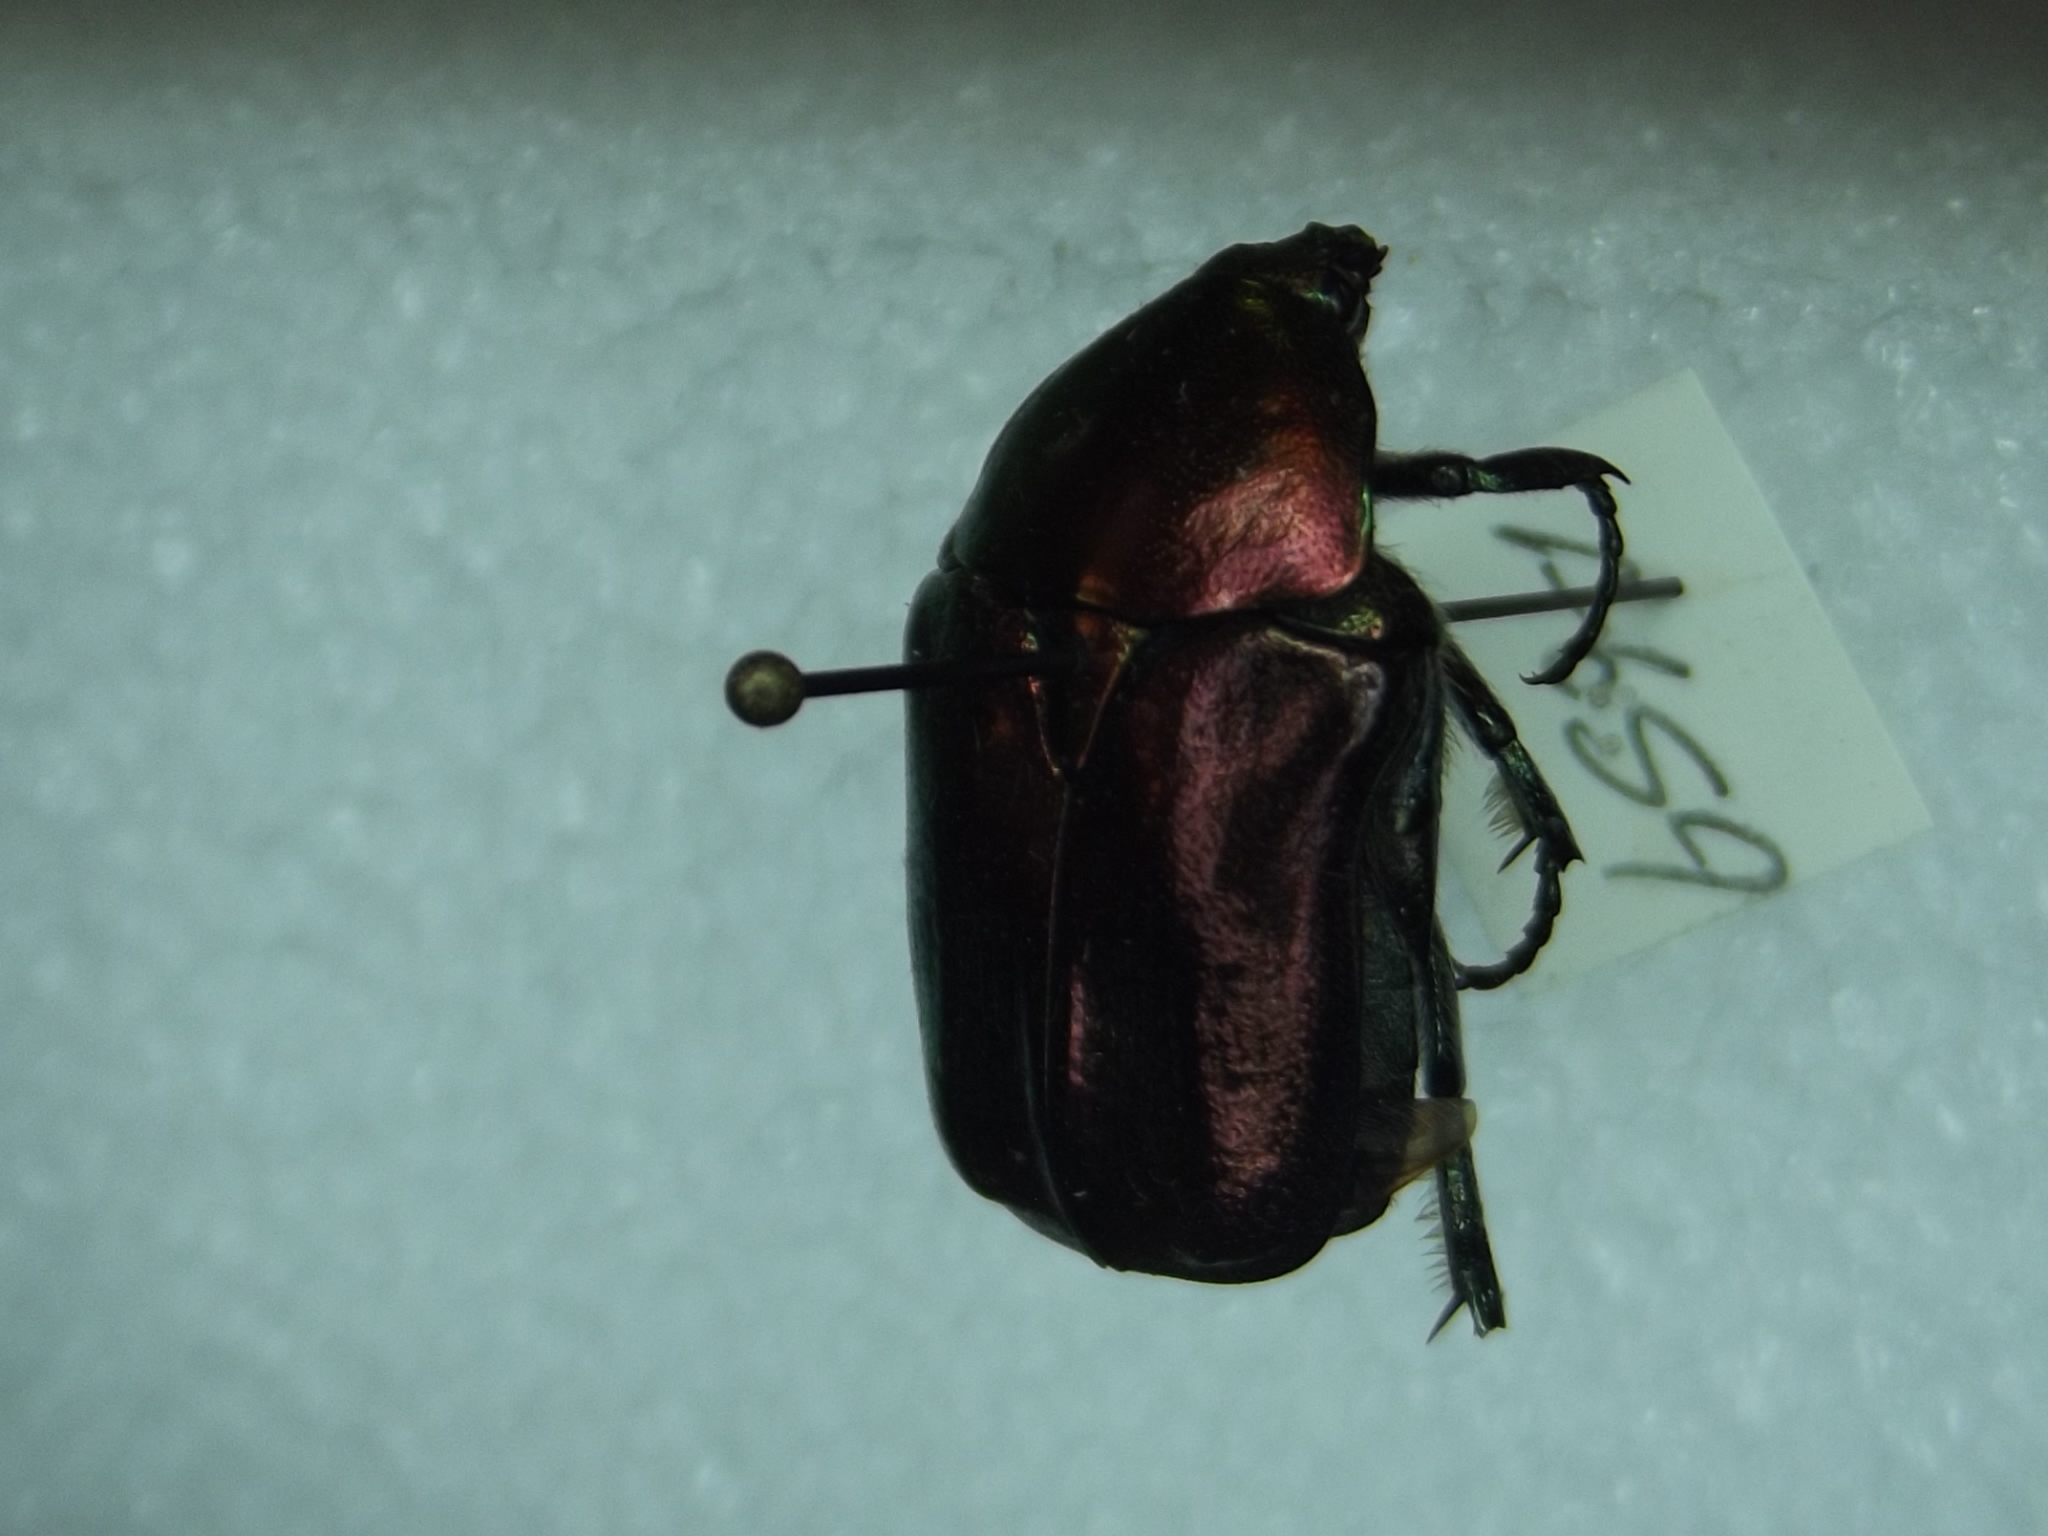Protaetia_cuprea_ignicollis: (871, 189, 1658, 1359)
